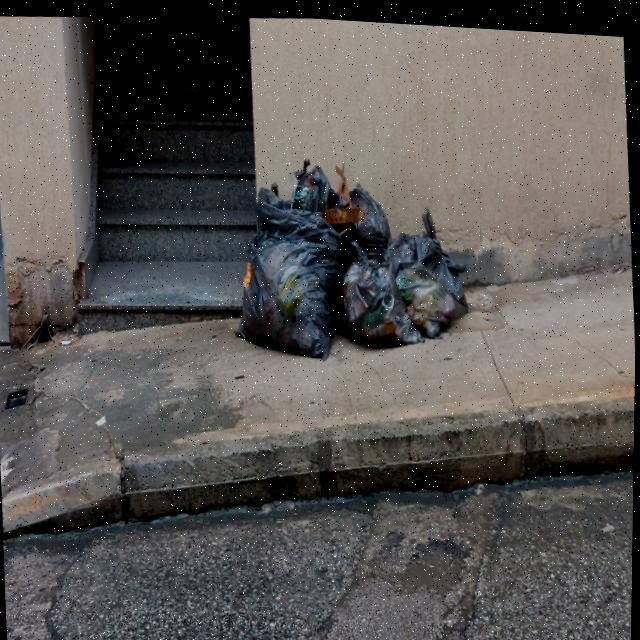Mixed Waste -Black Bag-: (228, 144, 365, 365), (383, 197, 475, 345), (337, 232, 430, 353), (353, 175, 395, 243)
